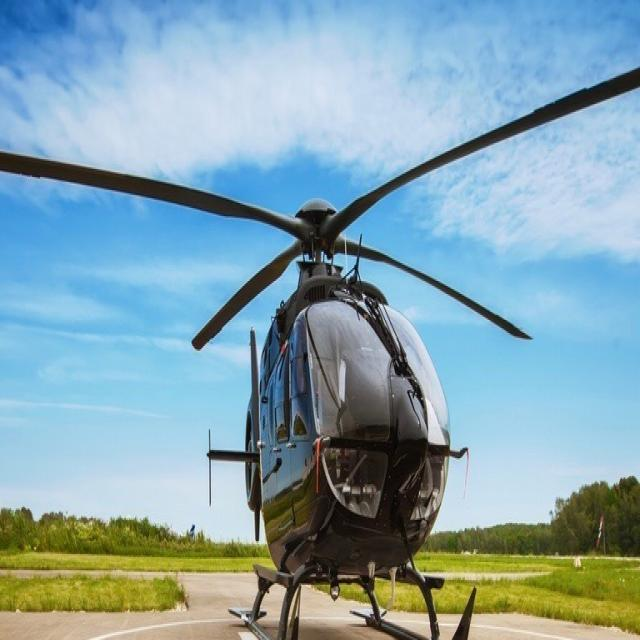helicopter: (1, 58, 640, 640)
